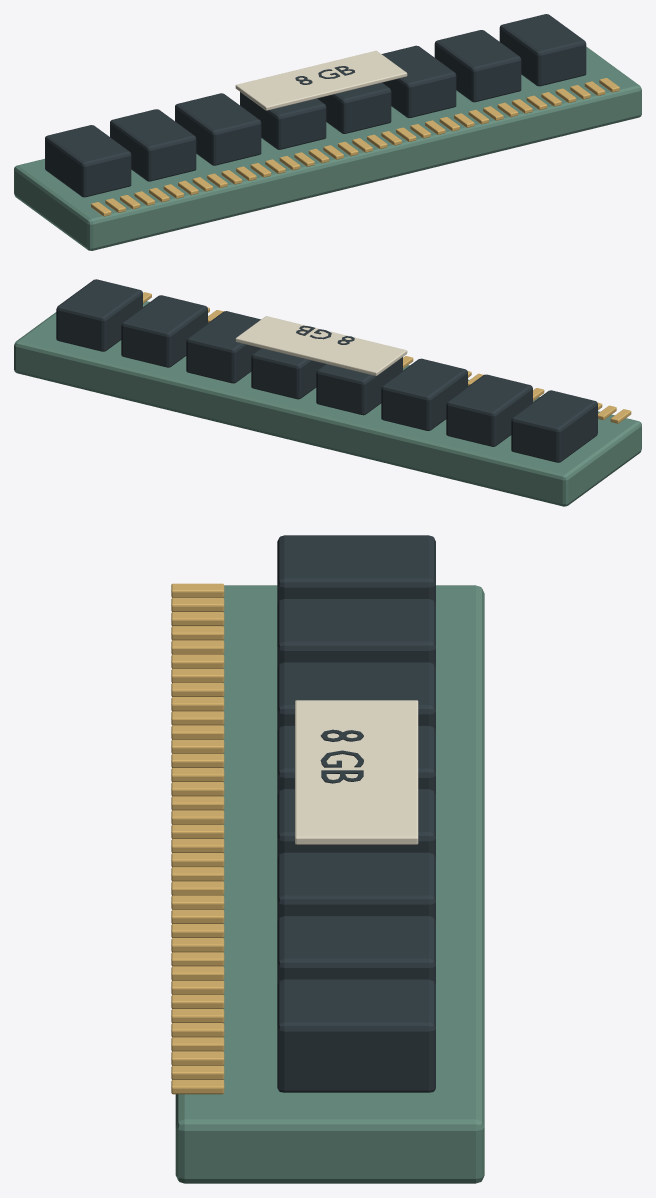
Rendered from loot_memory.glb.
3 renders of one model, top to bottom at view 1: azimuth 30°, elevation 25°; view 2: azimuth 150°, elevation 25°; view 3: azimuth 270°, elevation 25°, orthographic. The views are drawn at different scales.
Parts seen in each view (by area): view 1: loot_memory; view 2: loot_memory; view 3: loot_memory.
Boxes of the visible parts, x1=… form: loot_memory: x1=14, y1=14, x2=641, y2=250; loot_memory: x1=14, y1=279, x2=641, y2=506; loot_memory: x1=171, y1=535, x2=484, y2=1183.
Bounding box in the file's own units: 0.145 × 0.0201 × 0.0355.
